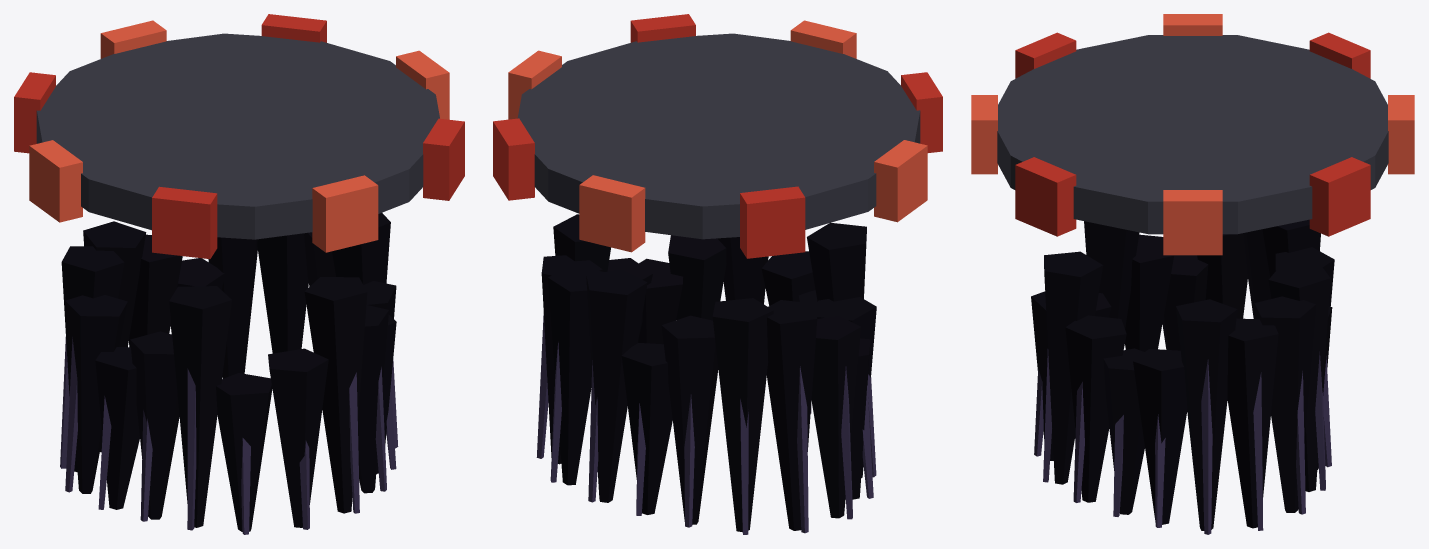
File: hero_karma_body_30.glb
3 renders of one model, left to right at view 1: azimuth 30°, elevation 25°; view 2: azimuth 150°, elevation 25°; view 3: azimuth 270°, elevation 25°, orthographic.
Parts seen in each view (by area): view 1: hero_karma_body_30; view 2: hero_karma_body_30; view 3: hero_karma_body_30.
Part boxes in pixels (box(x1,y1,x2,y2)): hero_karma_body_30: box(14, 14, 464, 534); hero_karma_body_30: box(493, 14, 942, 534); hero_karma_body_30: box(971, 14, 1414, 534).
Size of the model in its own units: 0.745 by 0.6608 by 0.745.
